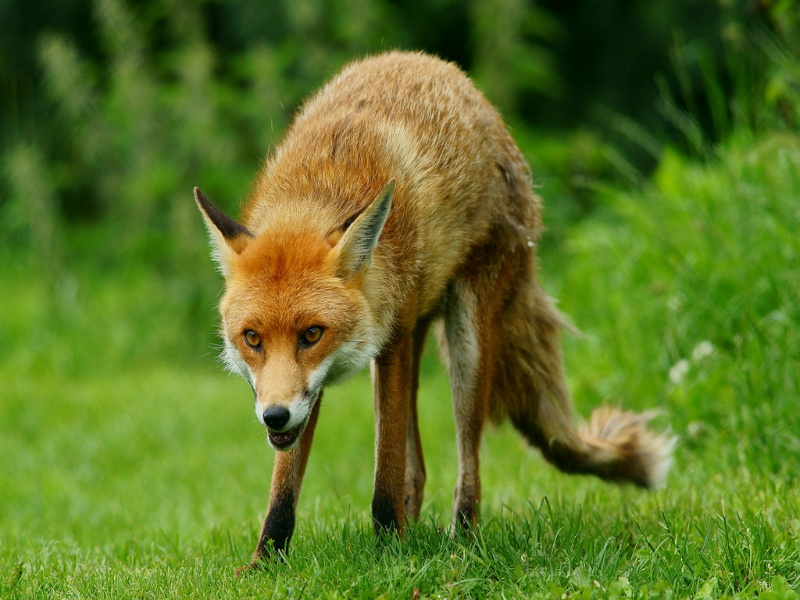fox: (174, 45, 680, 580)
